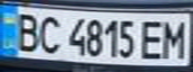1: (103, 17, 121, 59)
4: (63, 15, 87, 56)
5: (115, 17, 139, 60)
8: (84, 16, 106, 57)
B: (9, 10, 42, 53)
C: (33, 12, 63, 54)
E: (136, 17, 166, 61)
M: (157, 17, 190, 60)
